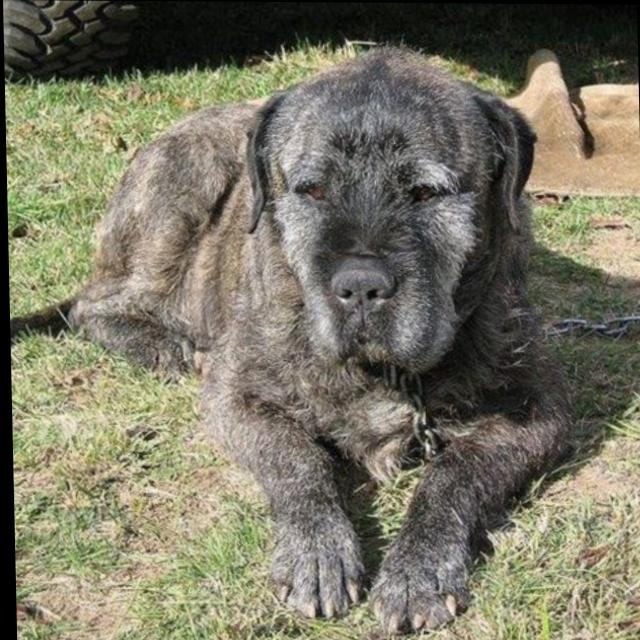other_dog_breed: (5, 38, 583, 639)
